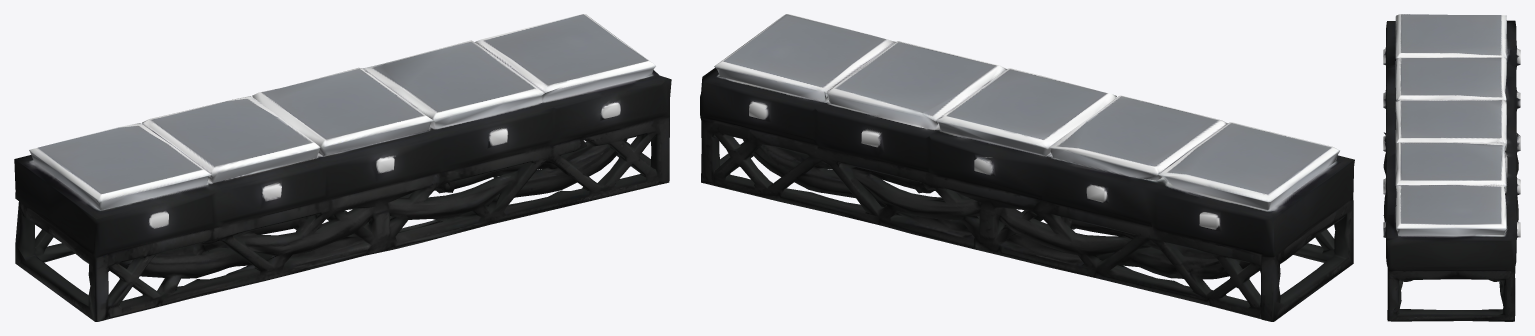
File: middle_platform.glb
3 views of the same model, side by side, from view 1: azimuth 30°, elevation 25°; view 2: azimuth 150°, elevation 25°; view 3: azimuth 270°, elevation 25° (orthographic). The views are drawn at different scales.
Parts seen in each view (by area): view 1: tripo_node_2634ead3-7a5b-41ff-b16a-588949b29635; view 2: tripo_node_2634ead3-7a5b-41ff-b16a-588949b29635; view 3: tripo_node_2634ead3-7a5b-41ff-b16a-588949b29635.
Boxes of the visible parts, bbox=[...] form: tripo_node_2634ead3-7a5b-41ff-b16a-588949b29635: bbox=[14, 14, 671, 321]; tripo_node_2634ead3-7a5b-41ff-b16a-588949b29635: bbox=[700, 14, 1354, 321]; tripo_node_2634ead3-7a5b-41ff-b16a-588949b29635: bbox=[1383, 14, 1520, 321].
Size of the model in its own units: 0.978 by 0.193 by 0.2579.
1 material, 1 textured.
